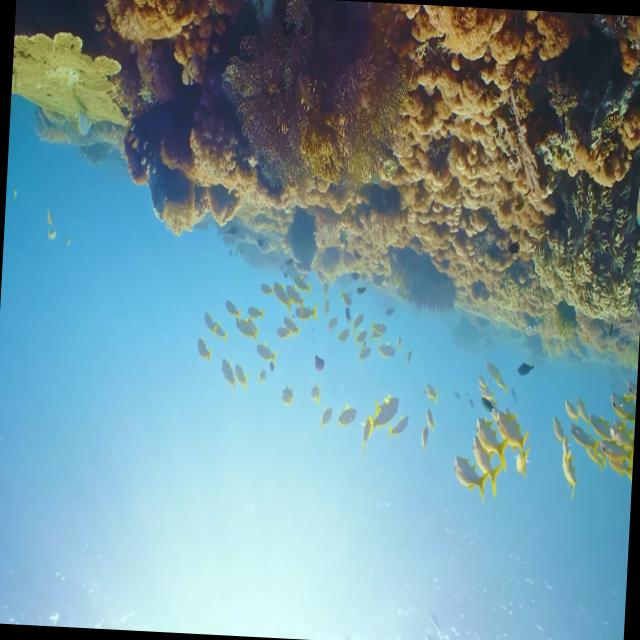fish: (471, 434, 503, 494), (364, 392, 400, 433), (451, 456, 486, 496)
